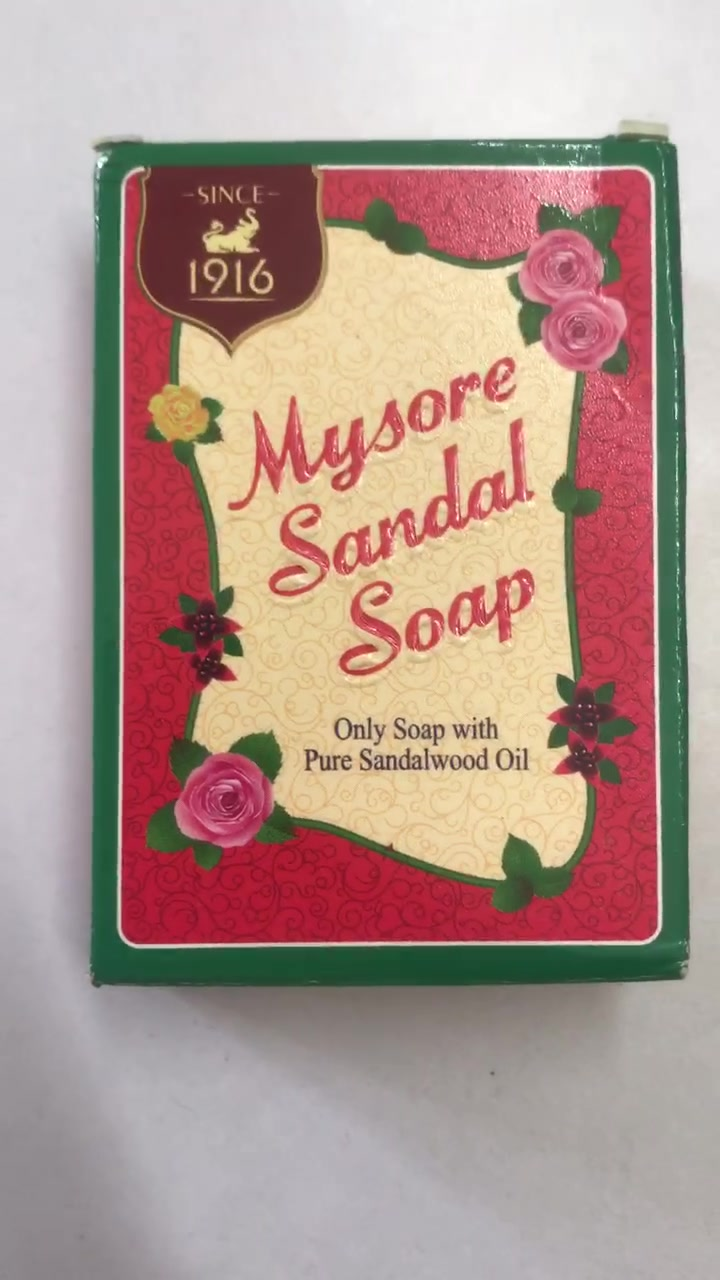mysore sandal soap: (99, 142, 670, 966)
